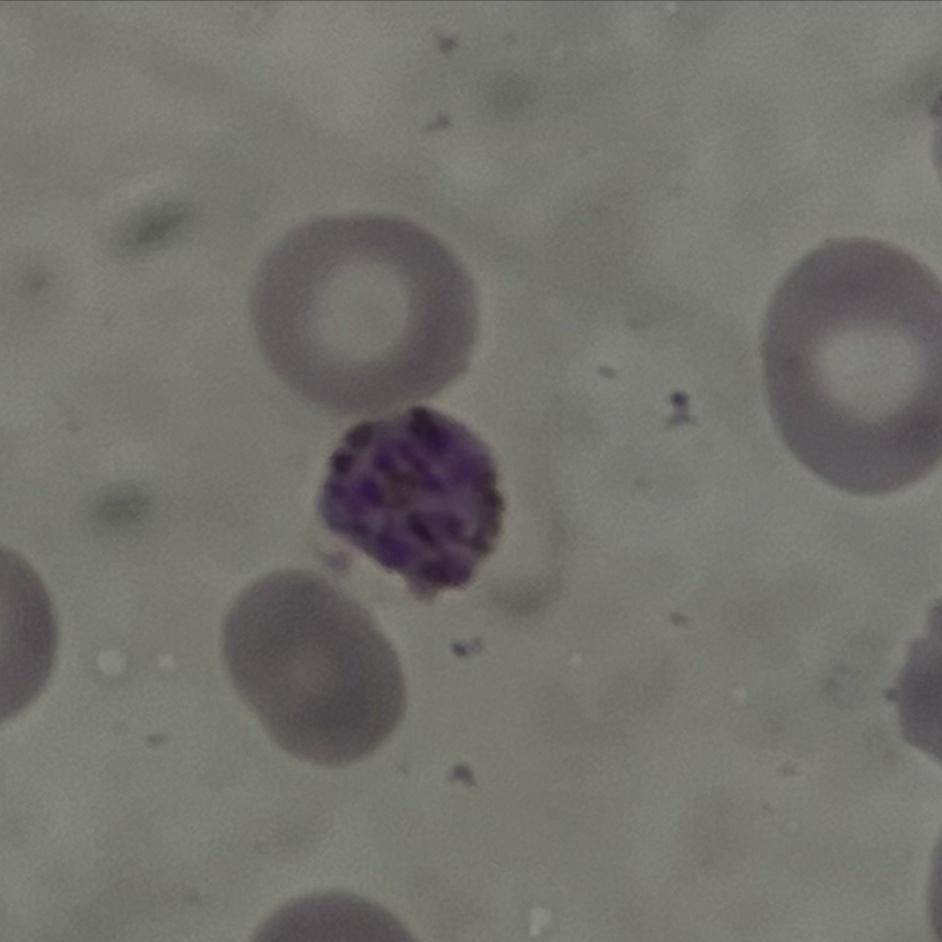Infected: (318, 405, 510, 604)
Uninfected: (244, 213, 485, 418), (762, 237, 942, 500), (216, 567, 409, 768)
